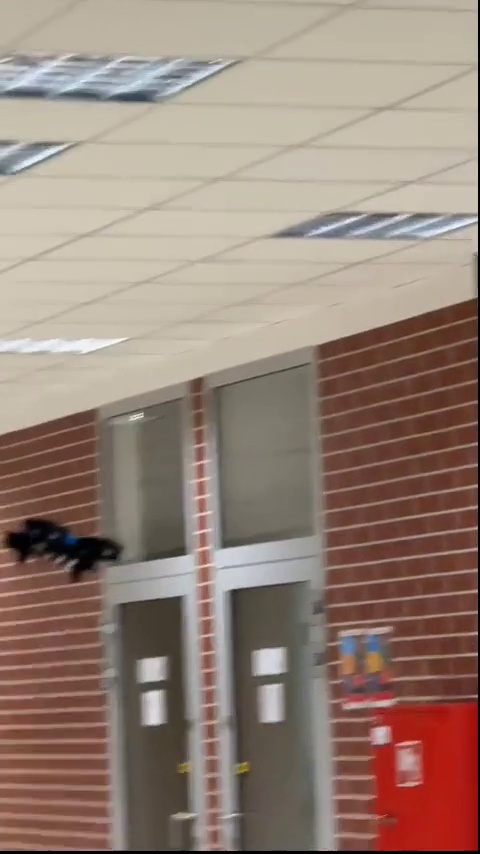drone: (7, 514, 120, 587)
